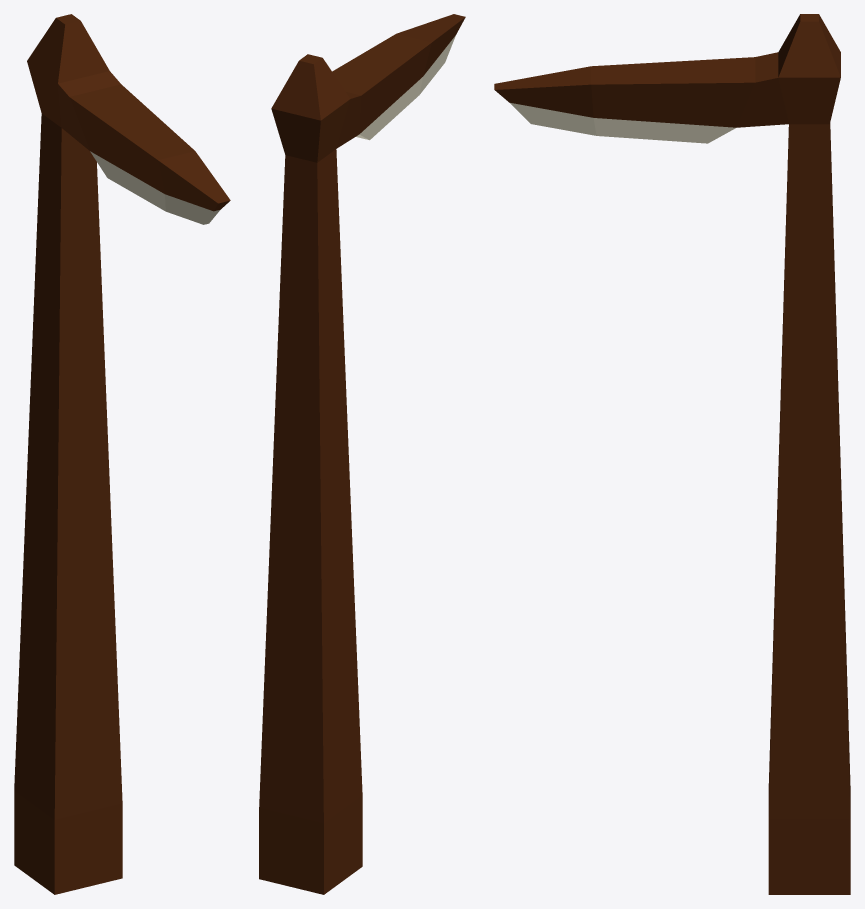
File: StreetLight.fbx
The picture shows the model from 3 angles, left to right: view 1: azimuth 30°, elevation 25°; view 2: azimuth 150°, elevation 25°; view 3: azimuth 270°, elevation 25°; orthographic projection. The views are drawn at different scales.
Parts seen in each view (by area): view 1: Cube; view 2: Cube; view 3: Cube.
Boxes of the visible parts, left/top/right/bottom form: Cube: left=14, top=14, right=230, bottom=894; Cube: left=259, top=14, right=465, bottom=894; Cube: left=494, top=14, right=850, bottom=894.
Size of the model in its own units: 0.2032 by 2.44 by 0.9144.
